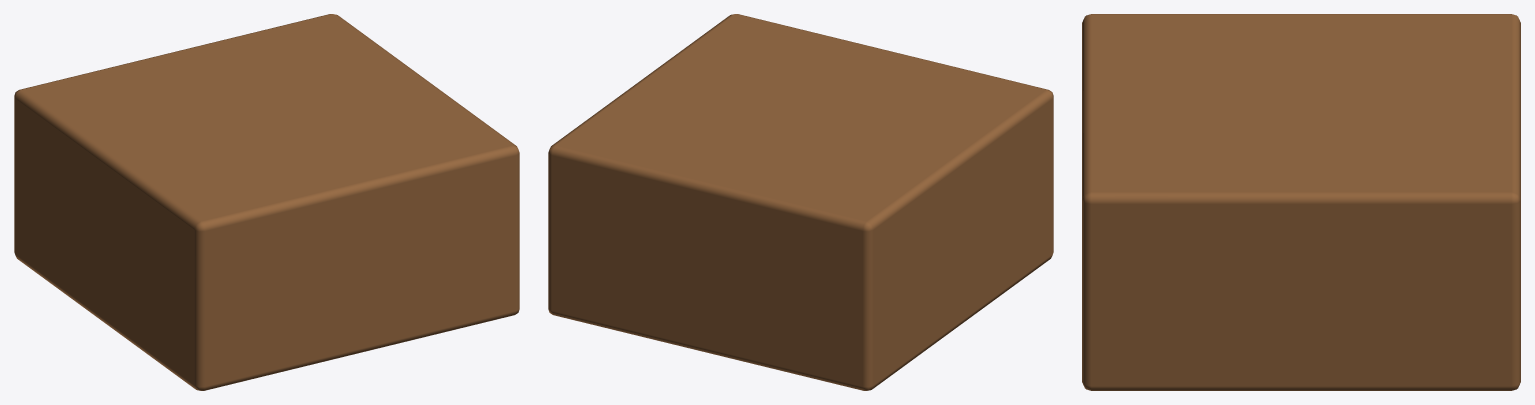
Rendered from Dirt Block - Half.glb.
3 renders of one model, left to right at view 1: azimuth 30°, elevation 25°; view 2: azimuth 150°, elevation 25°; view 3: azimuth 270°, elevation 25°, orthographic. The views are drawn at different scales.
Visible parts, largest first — view 1: Dirt Block - Half; view 2: Dirt Block - Half; view 3: Dirt Block - Half.
Boxes of the visible parts, x1,y1,x2,y2 form: Dirt Block - Half: [14, 14, 519, 390]; Dirt Block - Half: [548, 14, 1053, 390]; Dirt Block - Half: [1082, 14, 1520, 390].
Bounding box in the file's own units: 2 × 1 × 2.
